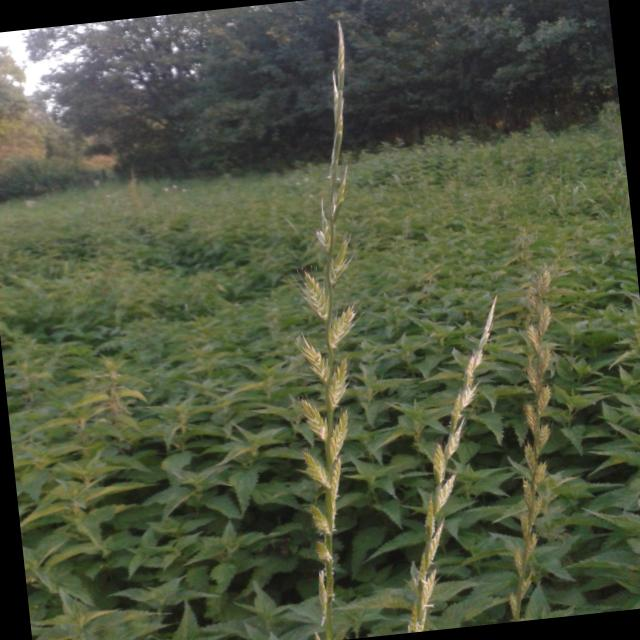Lolium: (248, 16, 412, 640), (356, 296, 536, 634), (453, 254, 596, 624)
